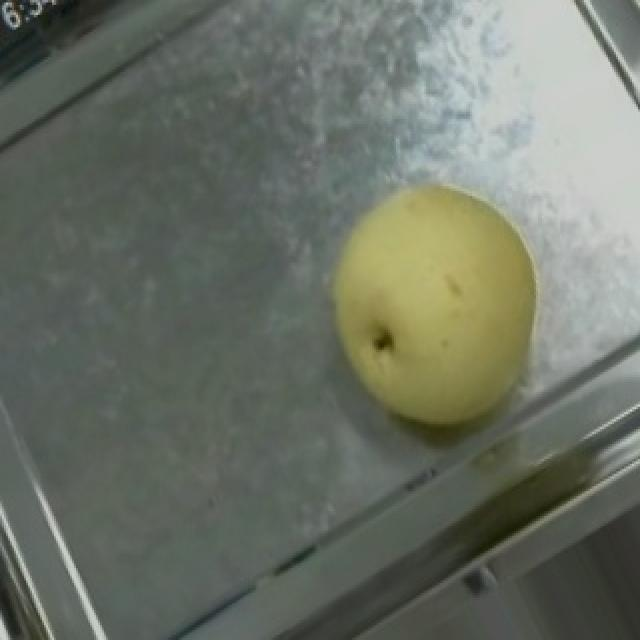Fruit: (280, 144, 592, 469)
